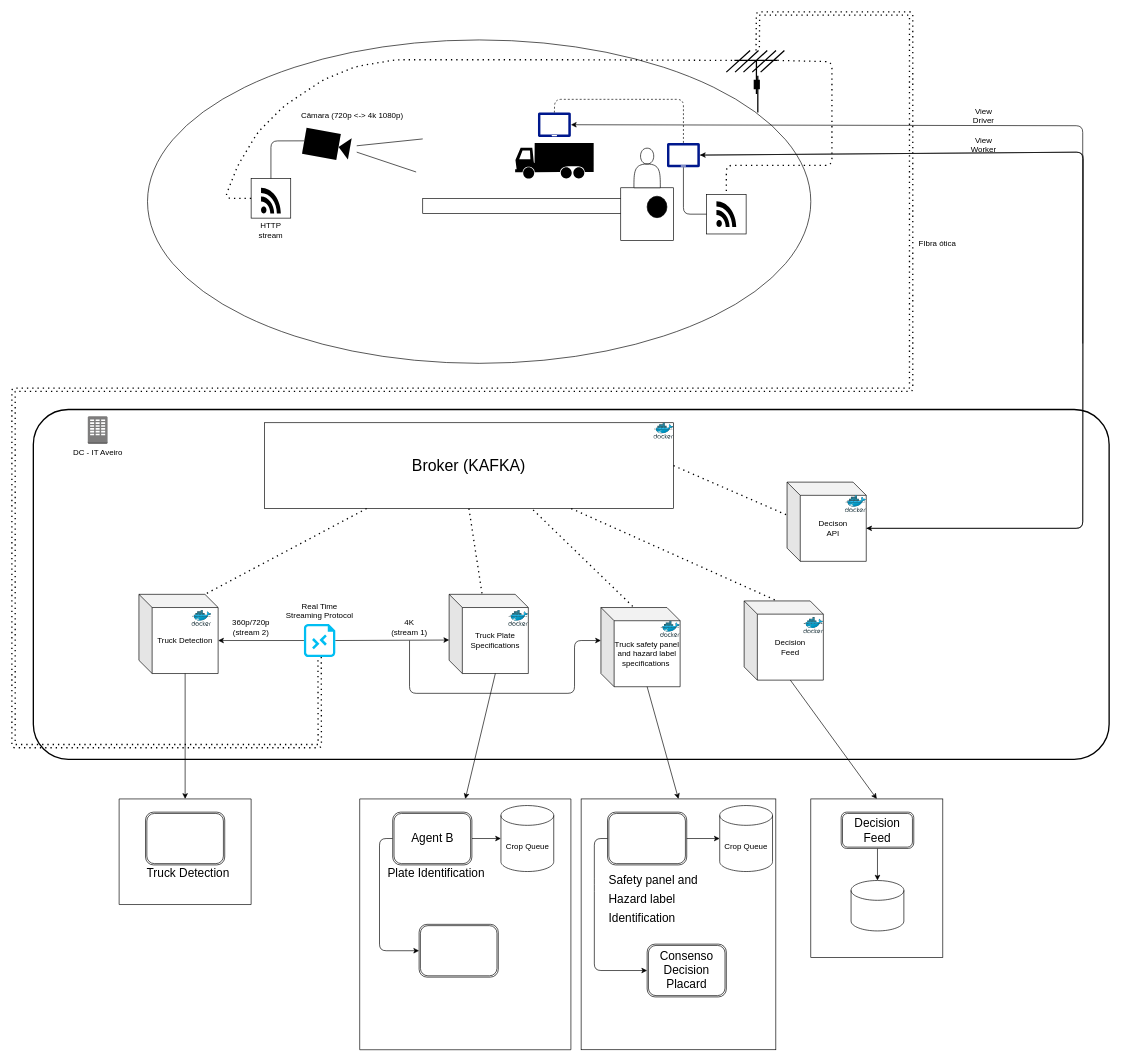
This 1121x1061 diagram has some shape labels left out. Here are the shapes that lost their labels. From the top down, the centre of each, then its label:
the point at 755,81: Antena 5G
the point at 524,206: Cancela do porto
the point at 185,838: Agent A
the point at 647,838: Agent C
the point at 877,905: Database Trucks Authorized
the point at 458,950: Consenso Decision Plate
